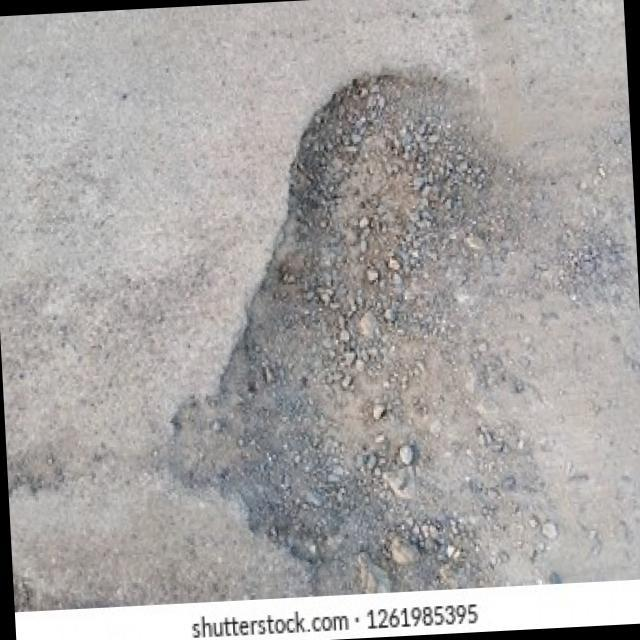Pothole: (144, 58, 574, 600)
